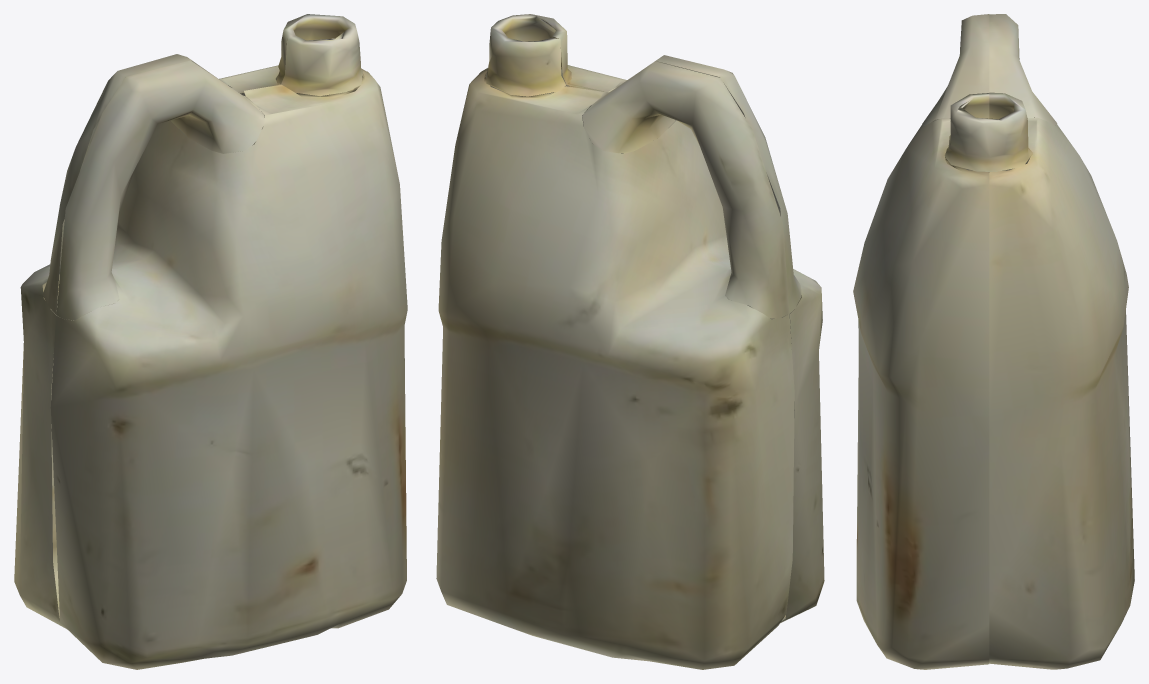
File: plastic_bottle_gallon.glb
3 renders of one model, left to right at view 1: azimuth 30°, elevation 25°; view 2: azimuth 150°, elevation 25°; view 3: azimuth 270°, elevation 25°, orthographic.
Parts seen in each view (by area): view 1: plastic_bottle_gallon; view 2: plastic_bottle_gallon; view 3: plastic_bottle_gallon.
Boxes of the visible parts, x1,y1,x2,y2 form: plastic_bottle_gallon: (14,14,407,669); plastic_bottle_gallon: (436,14,824,669); plastic_bottle_gallon: (853,14,1134,669).
Size of the model in its own units: 0.1672 by 0.2742 by 0.1269.
Materials: 1 (1 with a texture image).
